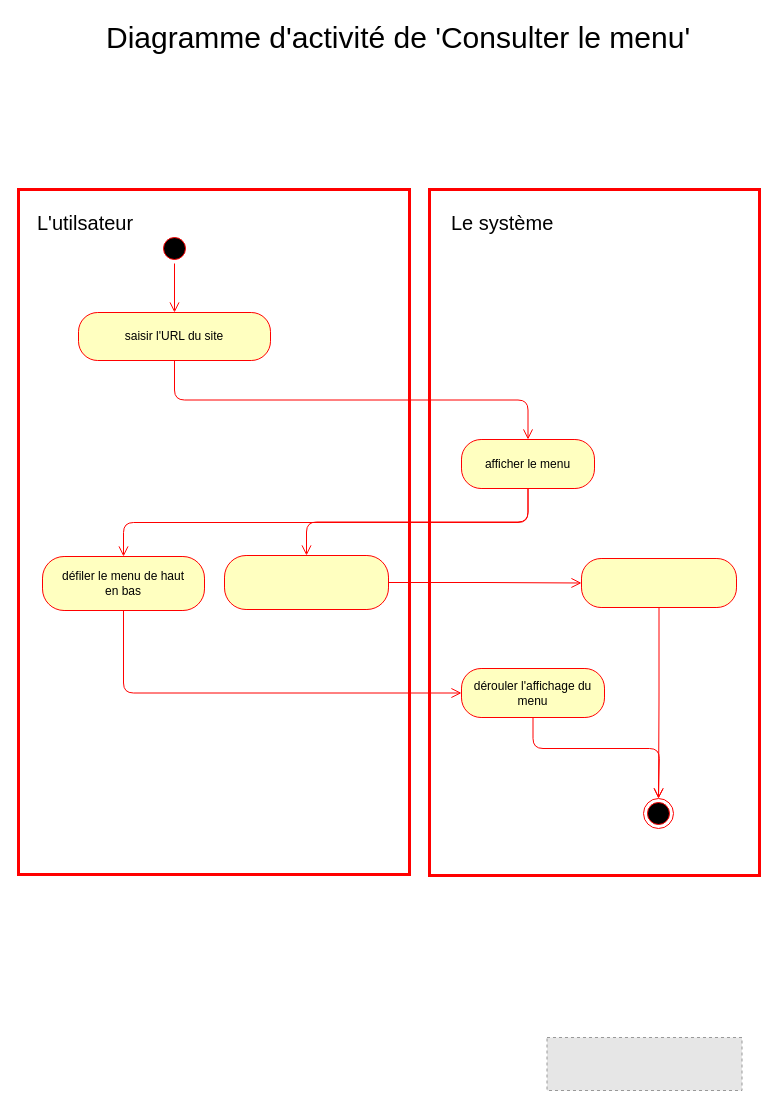
Image size: 778x1108. Some labels were removed from this diagram. Grey dashed boxes stand in for pictures. Each missing label, with the box of its shape:
afficher la page choisis: (580, 558, 736, 608)
changer la page du menu: (224, 554, 388, 610)
